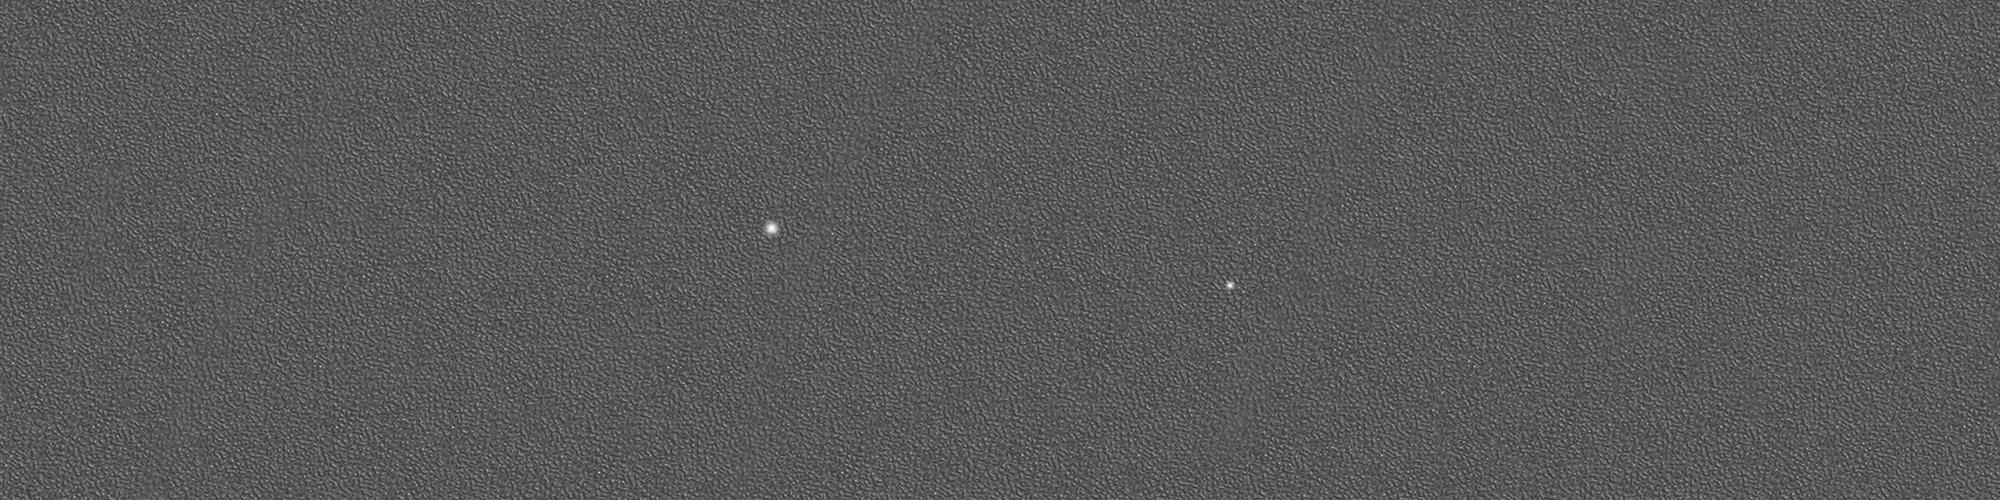Particles: (761, 219, 784, 241), (1221, 277, 1242, 292)
